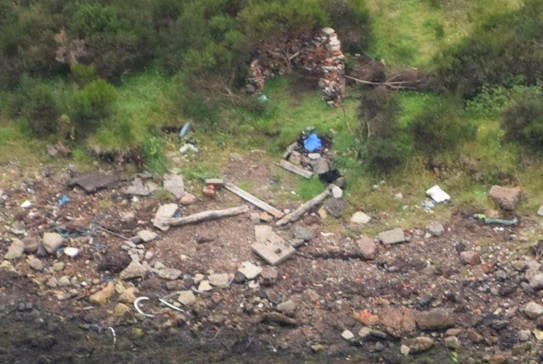net: (55, 221, 102, 238)
scattered_barrel: (155, 110, 210, 160)
straight_bar: (273, 185, 332, 234), (222, 180, 287, 218), (168, 201, 253, 230), (479, 212, 525, 232)
together_barrel: (282, 120, 345, 185)
tube: (128, 293, 155, 319), (159, 294, 185, 315)
white_in_green: (409, 165, 468, 221), (44, 182, 83, 219), (246, 83, 285, 116)
